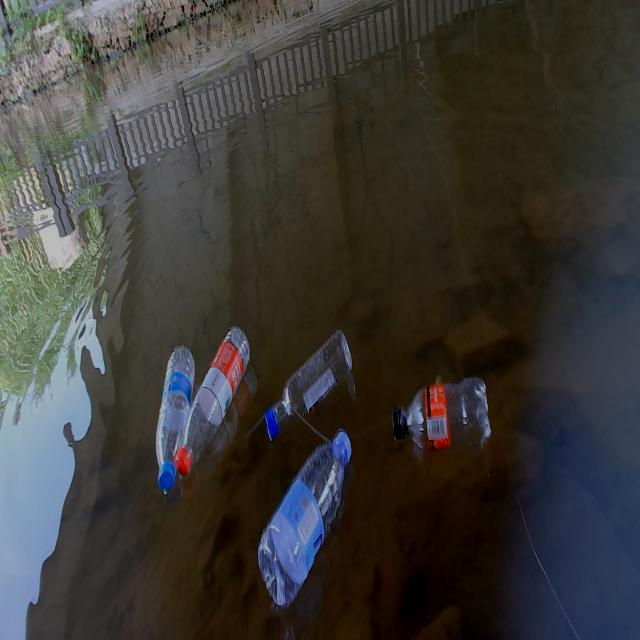bottle: (250, 425, 355, 612), (167, 322, 255, 481), (261, 325, 356, 441), (384, 374, 494, 456), (149, 338, 196, 506)
